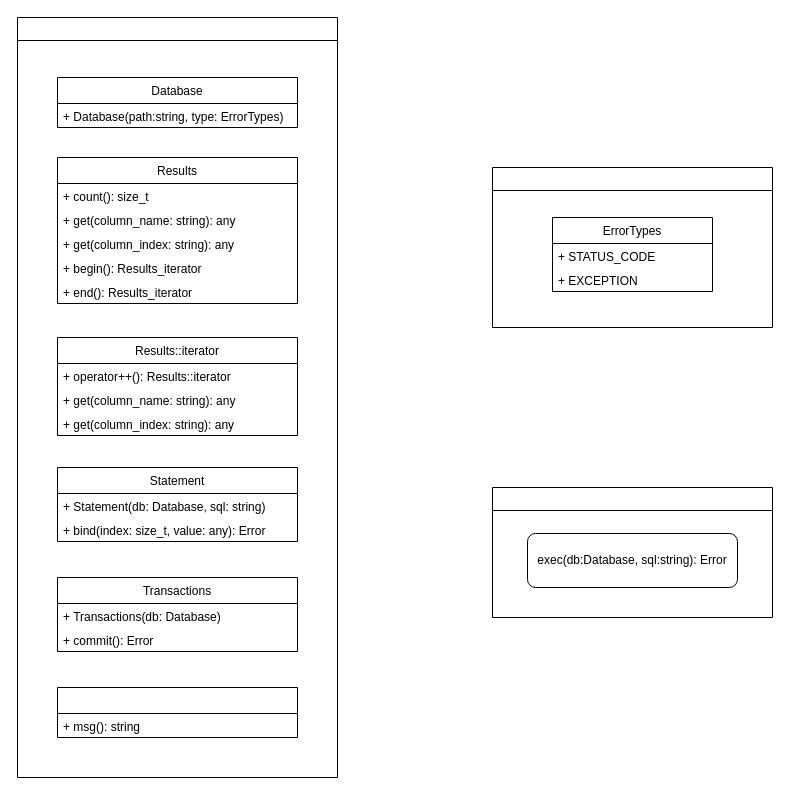
Some shapes in this 790 by 795 pixel diagram are drawn without their labels. Here are the shapes that lost their labels. From the top down, the box of each, then its label:
(492, 166, 772, 328): Enums
(16, 16, 338, 778): Classes
(492, 486, 772, 618): Functions
(56, 686, 298, 738): Error
